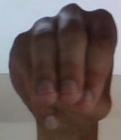M: (1, 1, 121, 140)
